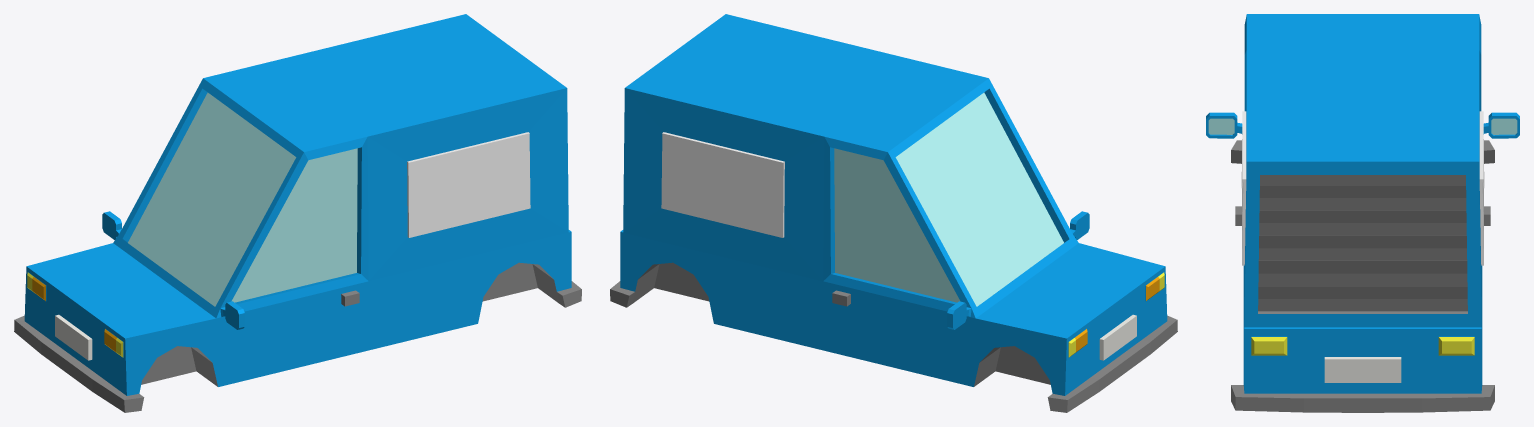
Rendered from mailVan.fbx.
The picture shows the model from 3 angles, left to right: view 1: azimuth 30°, elevation 25°; view 2: azimuth 150°, elevation 25°; view 3: azimuth 270°, elevation 25°; orthographic projection. The views are drawn at different scales.
Parts seen in each view (by area): view 1: mailVan; view 2: mailVan; view 3: mailVan.
Part boxes in pixels (<box>): mailVan: <box>14,14,581,412</box>; mailVan: <box>610,14,1177,412</box>; mailVan: <box>1206,14,1519,412</box>.
Size of the model in its own units: 351 by 302 by 686.
